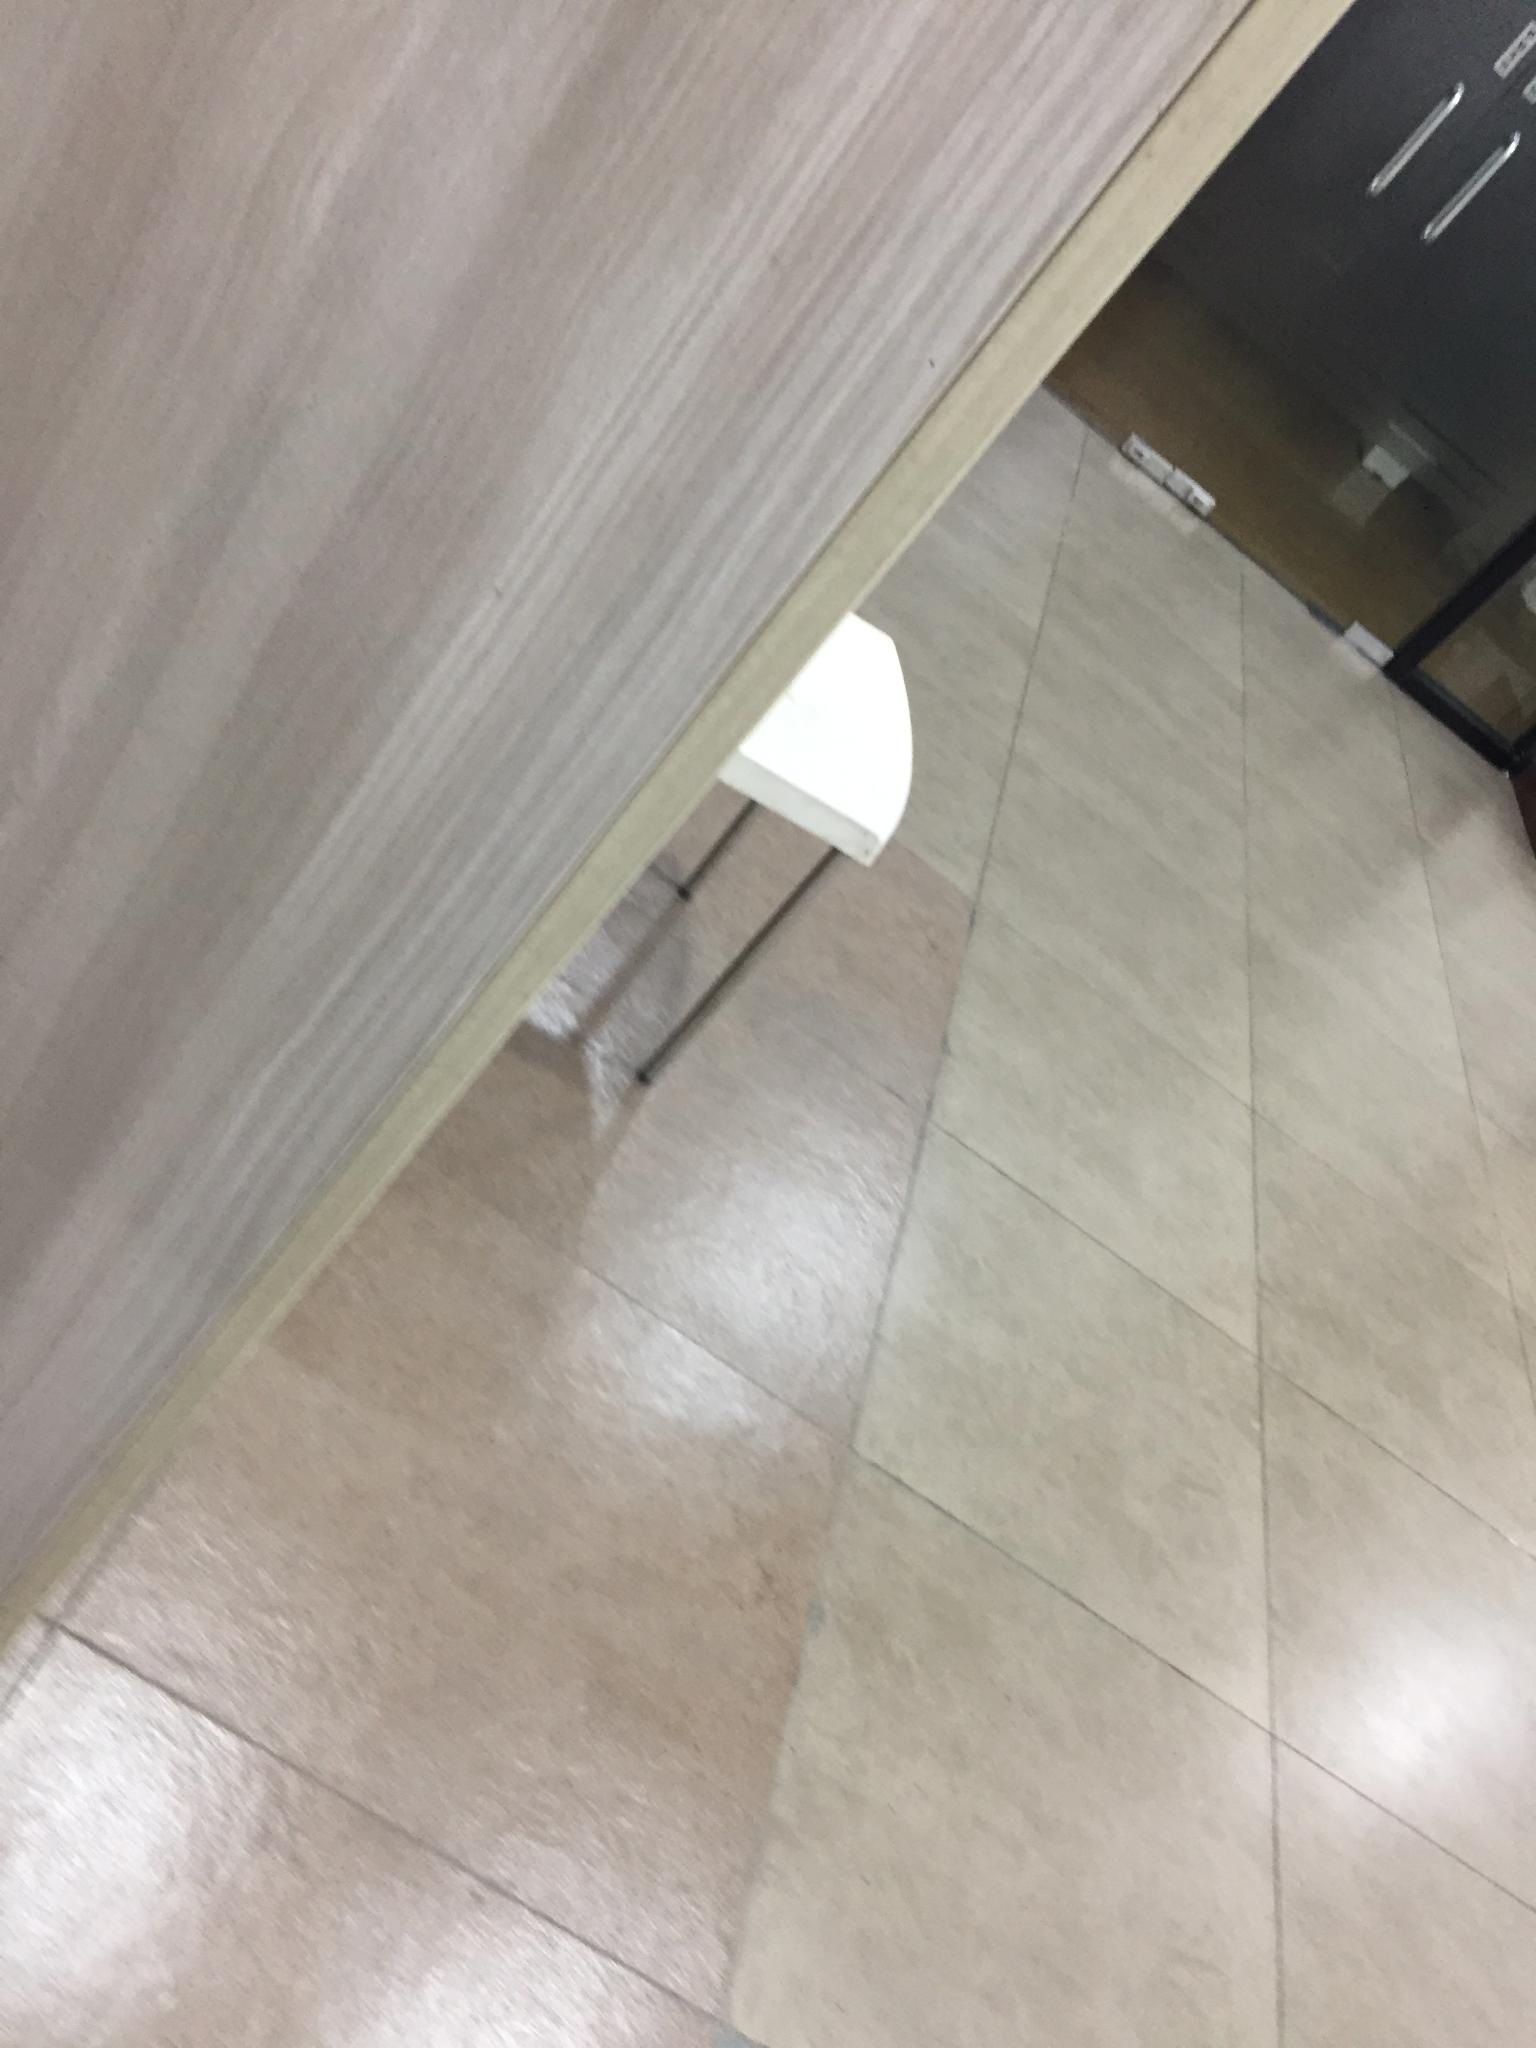chair: (634, 608, 915, 1087)
